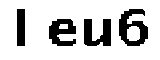6: (118, 4, 151, 49)
e: (43, 12, 77, 49)
l: (12, 5, 31, 52)
u: (80, 13, 111, 50)
